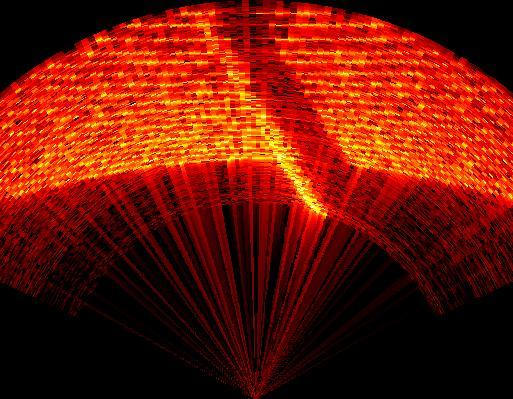pipe: (189, 2, 359, 220)
